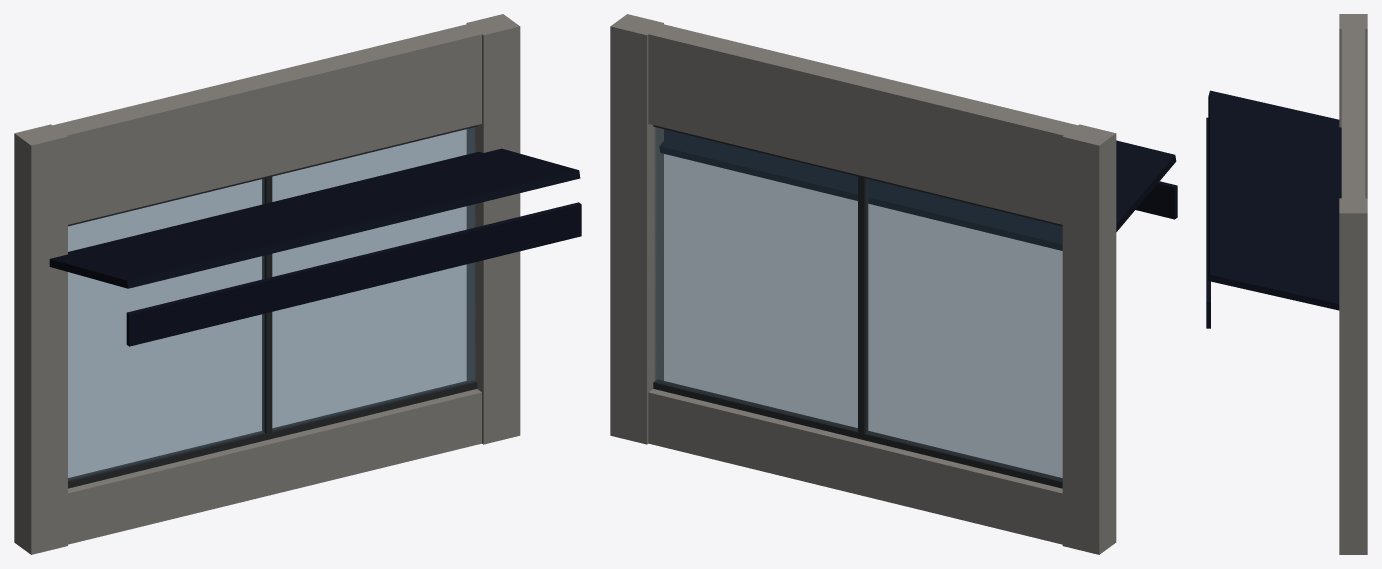
Rendered from KIT_Storefront_4m_Concrete_Navy.glb.
3 renders of one model, left to right at view 1: azimuth 30°, elevation 25°; view 2: azimuth 150°, elevation 25°; view 3: azimuth 270°, elevation 25°, orthographic. The views are drawn at different scales.
Parts seen in each view (by area): view 1: KIT_Storefront_4m_Concrete_Navy; view 2: KIT_Storefront_4m_Concrete_Navy; view 3: KIT_Storefront_4m_Concrete_Navy.
Boxes of the visible parts, box(x1,y1,x2,y2) form: KIT_Storefront_4m_Concrete_Navy: box(14, 14, 581, 554); KIT_Storefront_4m_Concrete_Navy: box(610, 14, 1177, 554); KIT_Storefront_4m_Concrete_Navy: box(1206, 14, 1367, 554).
Size of the model in its own units: 4 by 3.2 by 1.37.
